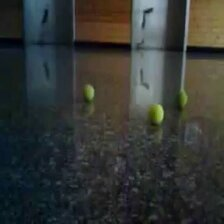tennis: (148, 104, 163, 128), (82, 84, 95, 103), (176, 90, 188, 110)
